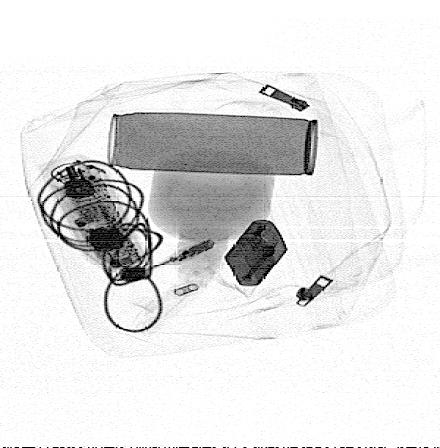Lighter: (223, 219, 288, 286)
